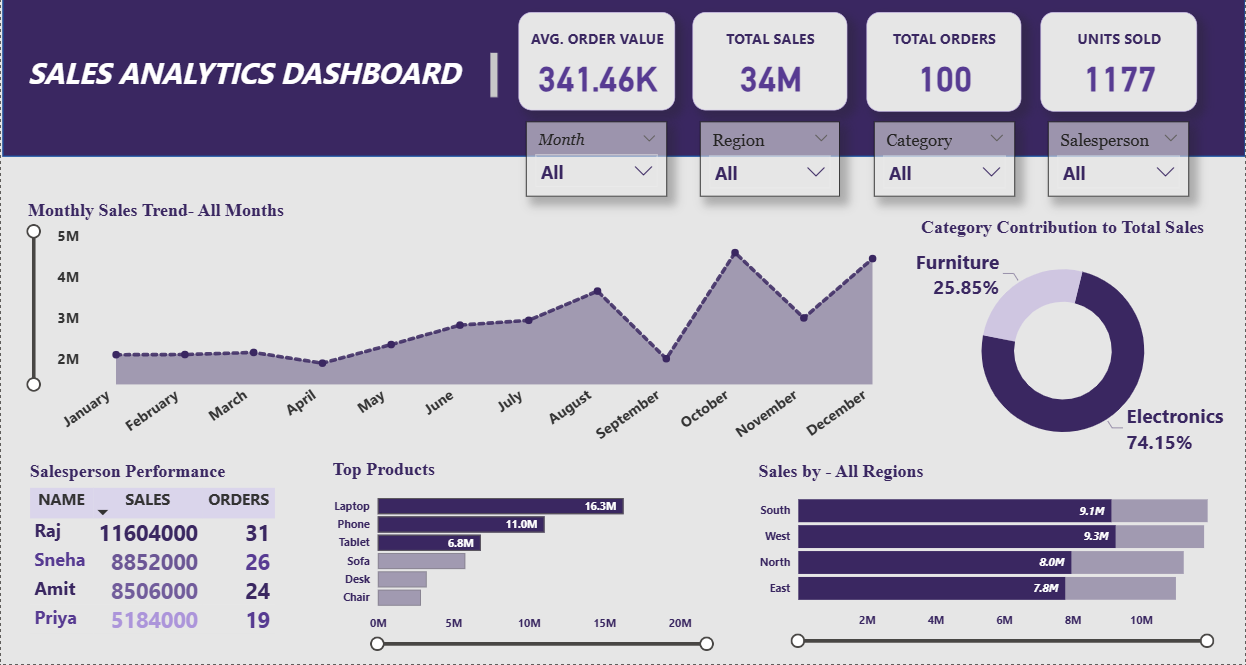

The dashboard page shown, as its layout file describes it:
{"tool":"powerbi","page":{"name":"Page 1","canvas":[1382,741],"ordinal":0},"visuals":[{"type":"shape","box":[1.7,0,1380.9,177.3],"z":0},{"type":"donutChart","title":"Category Contribution to Total Sales","fields":{"Category":["sales_table.Category"],"Y":["Measuress.total_sales"]},"box":[976.8,242.1,405.7,277.9],"z":1000},{"type":"card","title":"TOTAL ORDERS📦","fields":{"Values":["Measuress.total_orders"]},"box":[961.5,17,172.2,110.8],"z":2000},{"type":"card","title":"UNITS SOLD🏷️","fields":{"Values":["Measuress.total_units_sold"]},"box":[1154.1,17,173.9,110.8],"z":3000},{"type":"card","title":"TOTAL SALES💰","fields":{"Values":["Measuress.total_sales"]},"box":[768.9,17,172.2,109.1],"z":4000},{"type":"card","title":"AVG. ORDER VALUE","fields":{"Values":["Measuress.Average_order_value"]},"box":[574.5,17,173.9,109.1],"z":5000},{"type":"areaChart","fields":{"Category":["Date_table.Month"],"Y":["Measuress.total_sales"]},"box":[25.6,225,978.6,288.1],"z":6000},{"type":"clusteredBarChart","title":"Top Products","fields":{"Category":["sales_table.Product"],"Y":["Measuress.total_sales"]},"box":[363.1,513.1,439.8,213.1],"z":7000},{"type":"slicer","fields":{"Values":["Date_table.Month"]},"box":[583,138.1,156.8,83.5],"z":8000},{"type":"textbox","box":[25.6,56.3,531.9,64.8],"z":9000},{"type":"slicer","fields":{"Values":["sales_table.Region"]},"box":[777,138.1,155.1,83.5],"z":10000},{"type":"slicer","fields":{"Values":["sales_table.Category"]},"box":[969.3,138.1,156.8,83.5],"z":11000},{"type":"slicer","fields":{"Values":["sales_table.Salesperson"]},"box":[1163.2,137.5,156.8,83.5],"z":12000},{"type":"pivotTable","title":"🏆 Salesperson Performance","fields":{"Rows":["sales_table.Salesperson"],"Values":["Measuress.total_sales","Measuress.total_orders"]},"box":[25.6,509.7,310.3,221.6],"z":13000},{"type":"clusteredBarChart","fields":{"Category":["sales_table.Region"],"Y":["Measuress.total_sales"]},"box":[837.1,513.1,521.7,213.1],"z":14000}]}

Visuals, with their boxes in screenshot pixels (x1, y1, x2, y2), scaled from the page's 1382x741 canvas onto the 1246x665 screenshot:
shape: <region>2, 0, 1245, 159</region>
"Category Contribution to Total Sales" donutChart: <region>881, 217, 1245, 467</region>
"TOTAL ORDERS📦" card: <region>867, 15, 1022, 115</region>
"UNITS SOLD🏷️" card: <region>1041, 15, 1197, 115</region>
"TOTAL SALES💰" card: <region>693, 15, 848, 113</region>
"AVG. ORDER VALUE" card: <region>518, 15, 675, 113</region>
areaChart - Date_table.Month x Measuress.total_sales: <region>23, 202, 905, 460</region>
"Top Products" clusteredBarChart: <region>327, 460, 724, 652</region>
slicer - Date_table.Month: <region>526, 124, 667, 199</region>
textbox: <region>23, 51, 503, 109</region>
slicer - sales_table.Region: <region>701, 124, 840, 199</region>
slicer - sales_table.Category: <region>874, 124, 1015, 199</region>
slicer - sales_table.Salesperson: <region>1049, 123, 1190, 198</region>
"🏆 Salesperson Performance" pivotTable: <region>23, 457, 303, 656</region>
clusteredBarChart - sales_table.Region x Measuress.total_sales: <region>755, 460, 1225, 652</region>
